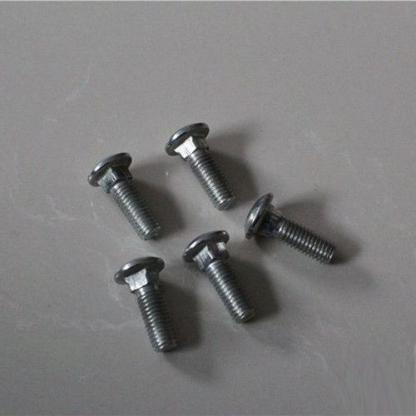FOD: (184, 230, 261, 327), (244, 192, 338, 268), (113, 252, 178, 356), (165, 122, 234, 212), (93, 152, 161, 243)
